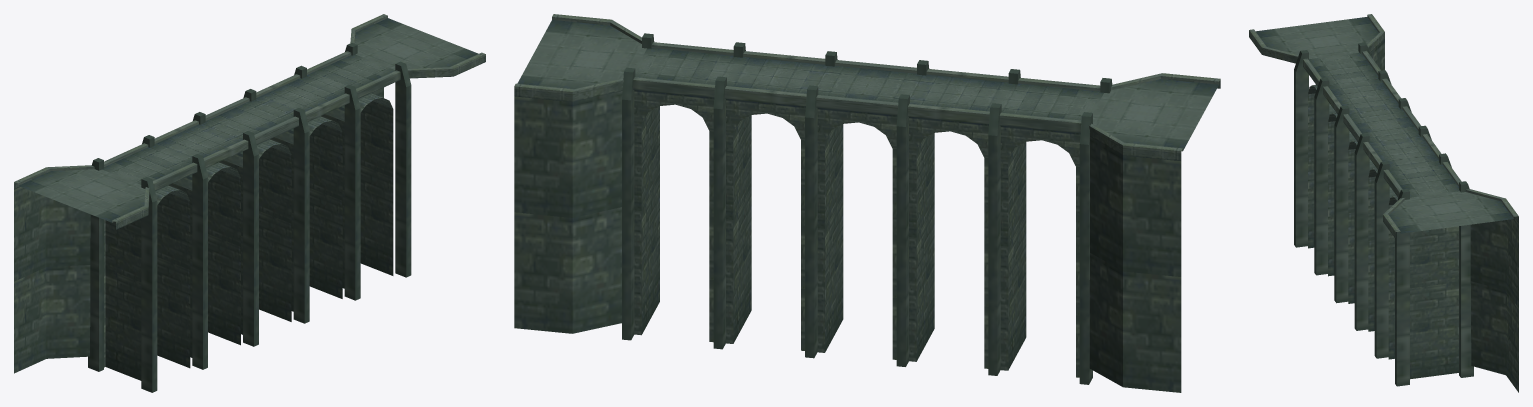
File: cs_xinzhucheng_waicechengqiang_001.FBX
The picture shows the model from 3 angles, left to right: view 1: azimuth 30°, elevation 25°; view 2: azimuth 150°, elevation 25°; view 3: azimuth 270°, elevation 25°; orthographic projection. The views are drawn at different scales.
Parts seen in each view (by area): view 1: cs_xinzhucheng_waicechengqiang_001; view 2: cs_xinzhucheng_waicechengqiang_001; view 3: cs_xinzhucheng_waicechengqiang_001.
Part boxes in pixels (x1=…): cs_xinzhucheng_waicechengqiang_001: x1=14, y1=14, x2=485, y2=392; cs_xinzhucheng_waicechengqiang_001: x1=514, y1=14, x2=1220, y2=392; cs_xinzhucheng_waicechengqiang_001: x1=1249, y1=14, x2=1518, y2=392.
Size of the model in its own units: 118 by 48.69 by 61.56.
